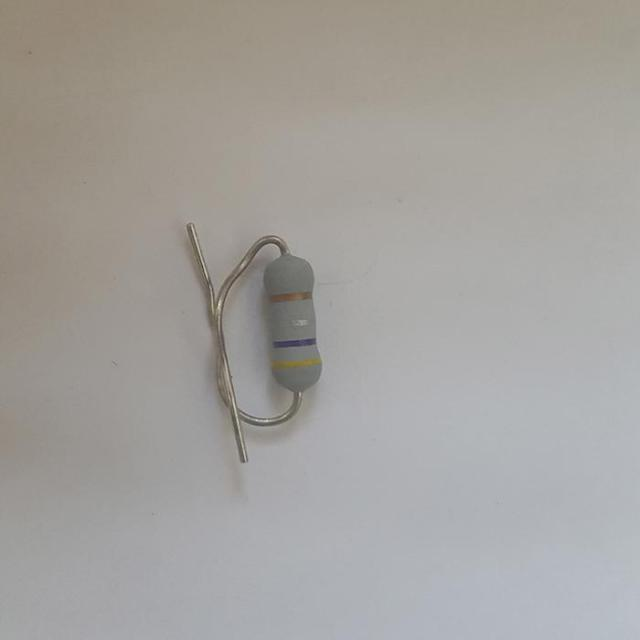Resistor: (264, 254, 321, 392)
gold: (270, 292, 311, 302)
purple: (273, 338, 316, 348)
silver: (269, 319, 314, 327)
yellow: (272, 358, 321, 370)
